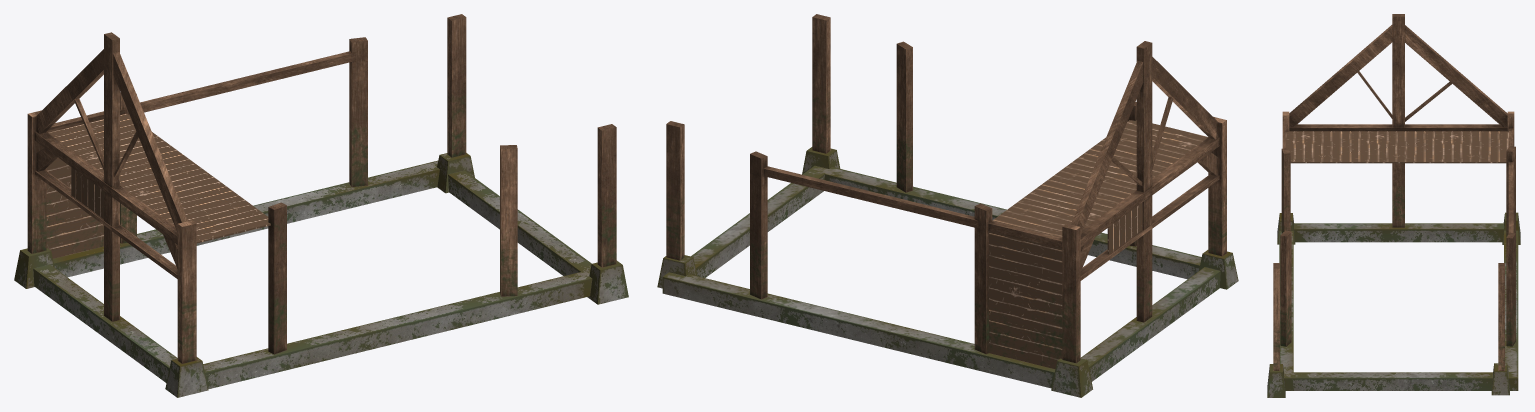
3 views of the same model, side by side, from view 1: azimuth 30°, elevation 25°; view 2: azimuth 150°, elevation 25°; view 3: azimuth 270°, elevation 25° (orthographic). The views are drawn at different scales.
Parts seen in each view (by area): view 1: base_low, board01_low, beam06_low, colum01_low, board02_low, beam03_low, colum03_low, colum02_low, colum06_low, colum07_low, colum05_low, colum04_low (+10 smaller); view 2: base_low, board02_low, board01_low, beam06_low, colum01_low, beam03_low, colum09_low, colum07_low, colum06_low, colum05_low, colum04_low, beam01_low (+10 smaller); view 3: base_low, board01_low, beam06_low, colum01_low, beam01_low, colum04_low, colum05_low, colum03_low, colum06_low, colum07_low, colum08_low, beam03_low (+4 smaller).
Boxes of the visible parts, x1=… form: base_low: x1=33, y1=160, x2=592, y2=389; board01_low: x1=48, y1=114, x2=270, y2=243; beam06_low: x1=36, y1=49, x2=187, y2=232; colum01_low: x1=104, y1=32, x2=119, y2=321; board02_low: x1=46, y1=157, x2=103, y2=258; beam03_low: x1=46, y1=51, x2=355, y2=132; colum03_low: x1=268, y1=202, x2=286, y2=354; colum02_low: x1=177, y1=220, x2=196, y2=363; colum06_low: x1=447, y1=14, x2=466, y2=157; colum07_low: x1=597, y1=124, x2=616, y2=267; colum05_low: x1=349, y1=37, x2=367, y2=187; colum04_low: x1=500, y1=145, x2=517, y2=296; base_low: x1=662, y1=165, x2=1220, y2=388; board02_low: x1=989, y1=231, x2=1062, y2=368; board01_low: x1=992, y1=120, x2=1208, y2=237; beam06_low: x1=1071, y1=57, x2=1218, y2=235; colum01_low: x1=1136, y1=41, x2=1152, y2=322; beam03_low: x1=763, y1=166, x2=1062, y2=248; colum09_low: x1=1062, y1=223, x2=1080, y2=363; colum07_low: x1=812, y1=14, x2=830, y2=153; colum06_low: x1=666, y1=121, x2=684, y2=260; colum05_low: x1=750, y1=151, x2=767, y2=299; colum04_low: x1=896, y1=41, x2=912, y2=192; beam01_low: x1=1080, y1=137, x2=1219, y2=247; base_low: x1=1279, y1=223, x2=1518, y2=390; board01_low: x1=1285, y1=131, x2=1508, y2=163; beam06_low: x1=1289, y1=25, x2=1507, y2=127; colum01_low: x1=1392, y1=14, x2=1404, y2=227; beam01_low: x1=1289, y1=124, x2=1507, y2=131; colum04_low: x1=1280, y1=230, x2=1291, y2=346; colum05_low: x1=1506, y1=232, x2=1515, y2=346; colum03_low: x1=1281, y1=148, x2=1290, y2=233; colum06_low: x1=1498, y1=263, x2=1504, y2=370; colum07_low: x1=1273, y1=263, x2=1279, y2=370; colum08_low: x1=1506, y1=146, x2=1515, y2=236; beam03_low: x1=1508, y1=128, x2=1513, y2=233.
Bounding box in the file's own units: 200 × 129 × 131.
